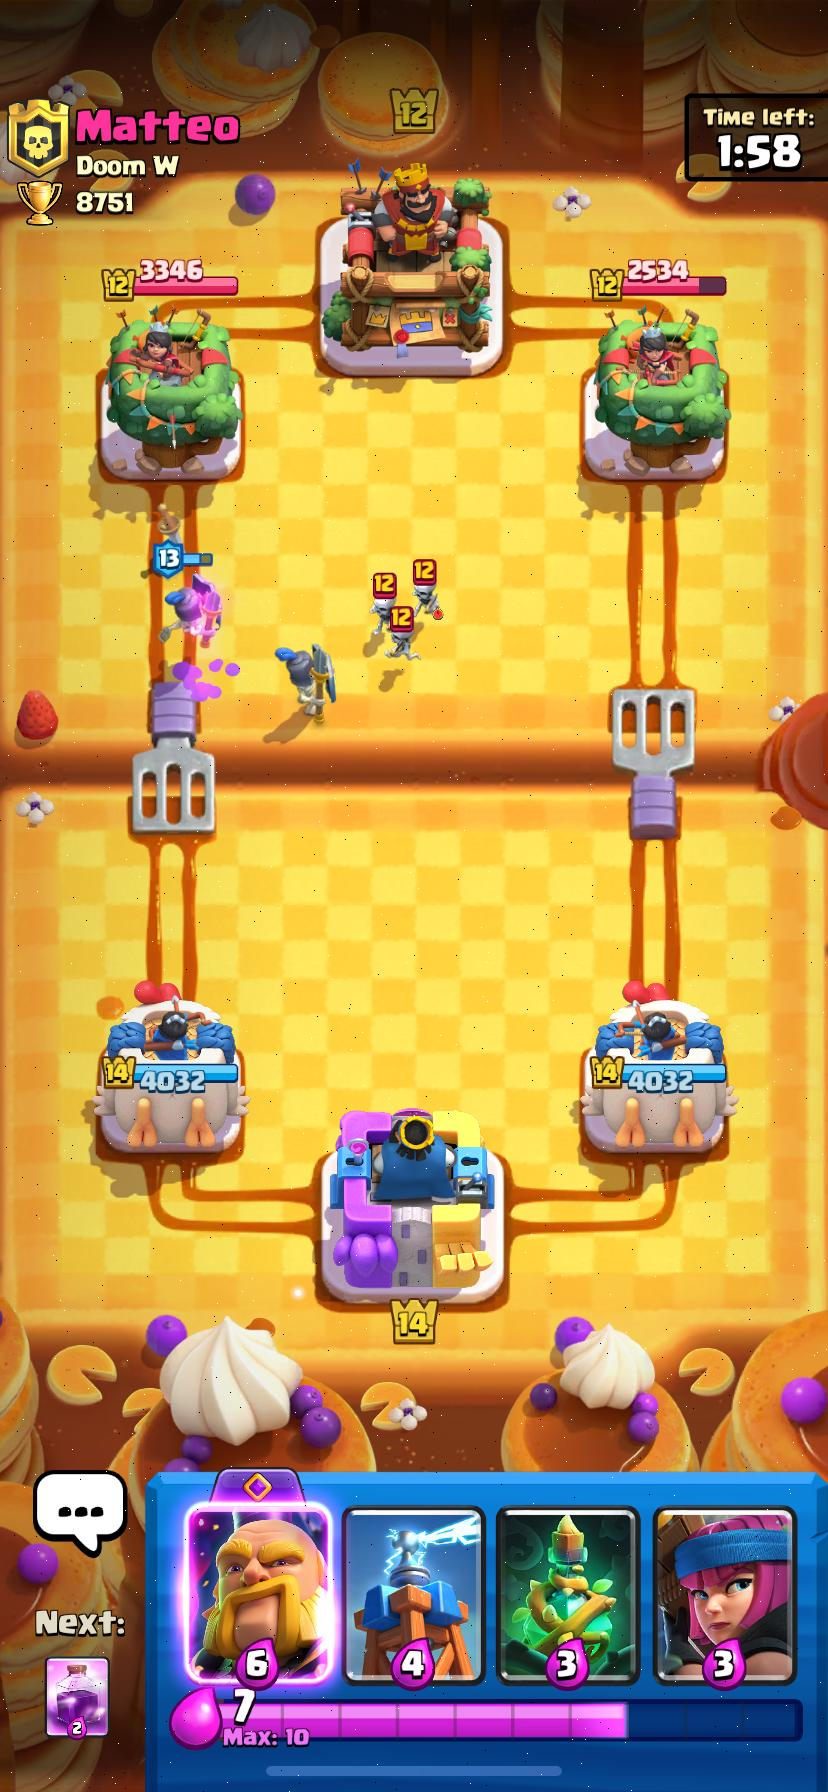EKingTower: (321, 165, 502, 375)
ELarry: (387, 605, 419, 661), (413, 558, 441, 619), (371, 571, 396, 633)
EnemyPrincessTower: (105, 304, 242, 479), (594, 309, 729, 478)
OGuard: (160, 571, 221, 647), (276, 645, 335, 721)
OwnKingTower: (321, 1109, 503, 1303)
OwnPrincessTower: (581, 982, 737, 1154), (93, 983, 248, 1152)
